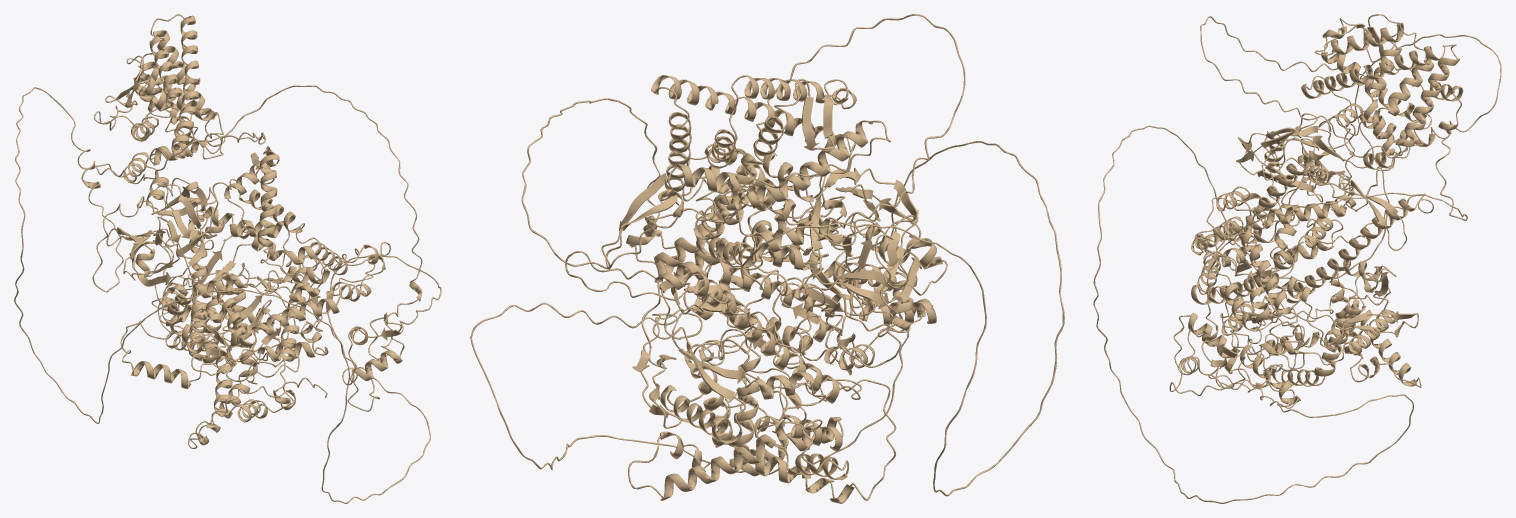
3 views of the same model, side by side, from view 1: azimuth 30°, elevation 25°; view 2: azimuth 150°, elevation 25°; view 3: azimuth 270°, elevation 25° (orthographic). The views are drawn at different scales.
Bounding box in the file's own units: 136 × 133 × 120.
